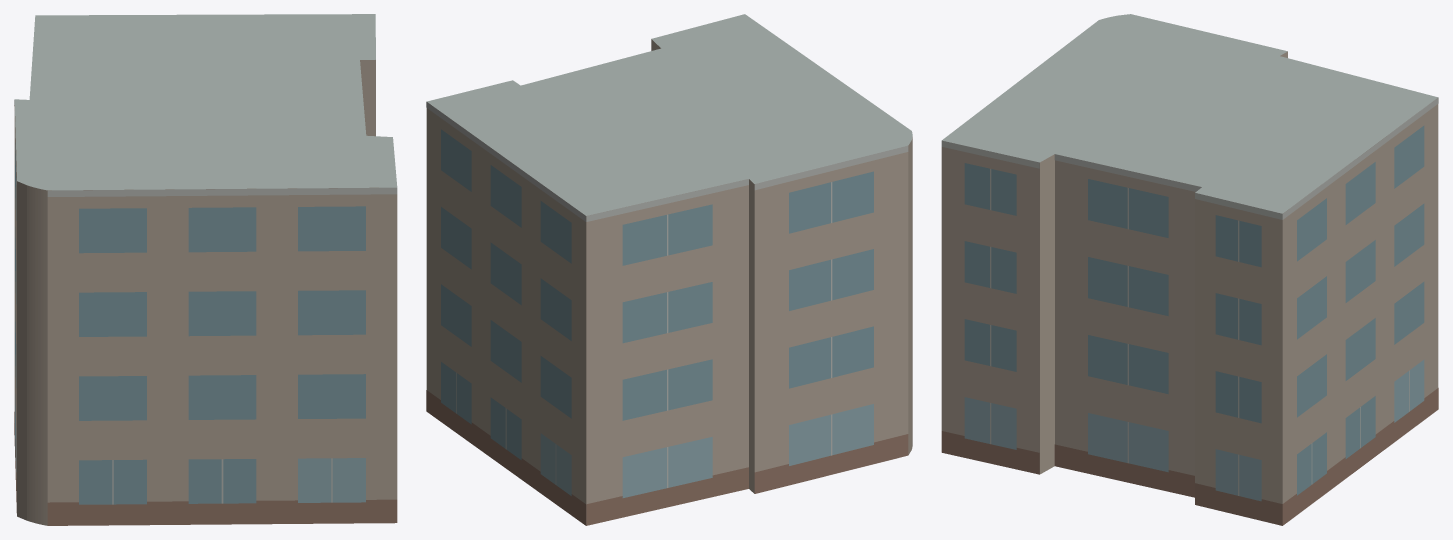
Rendered from survey-upis-32682090.glb.
The picture shows the model from 3 angles, left to right: view 1: azimuth 30°, elevation 25°; view 2: azimuth 150°, elevation 25°; view 3: azimuth 270°, elevation 25°; orthographic projection. The views are drawn at different scales.
Parts seen in each view (by area): view 1: survey-upis-32682090.tmp; view 2: survey-upis-32682090.tmp; view 3: survey-upis-32682090.tmp.
Part boxes in pixels (x1,y1,x2,y2): survey-upis-32682090.tmp: [14, 14, 397, 525]; survey-upis-32682090.tmp: [426, 14, 912, 525]; survey-upis-32682090.tmp: [941, 14, 1438, 525].
Size of the model in its own units: 16.76 by 12.2 by 17.61.
